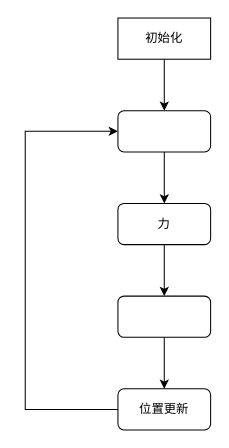
The diagram is 229 pixels wide and 448 high, and some of its shapes have lost their labels. The shapes that lost their labels are listed below. From the top down, each one's centre as x and y in pixels, then its label:
pixel 164 131: 感知
pixel 164 316: 速度
